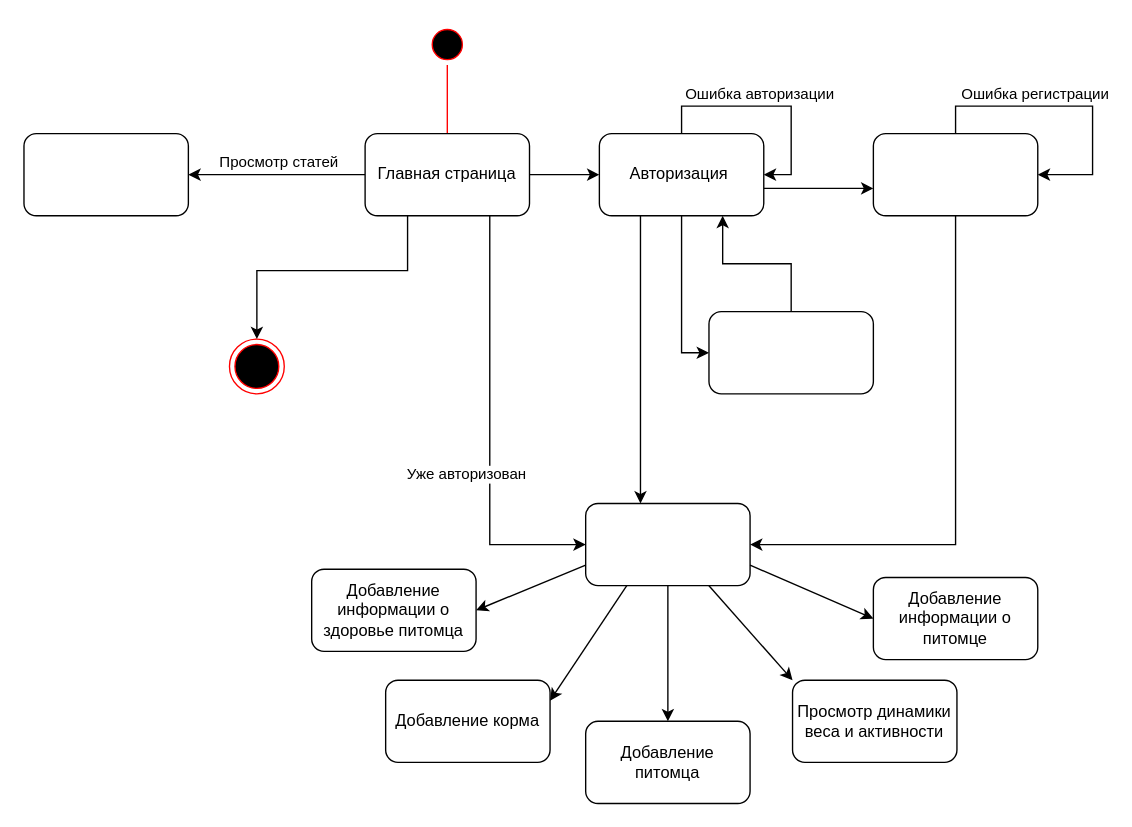
Image size: 1132x827. Some labels were removed from this diagram. The shapes that lost their labels are listed below. From the top down, each one's centre as x and y in pixels, then its label:
pixel 105 174: Советы
pixel 955 174: Регистрация
pixel 790 352: Восстановление пароля
pixel 667 544: Аккаунт пользователя
